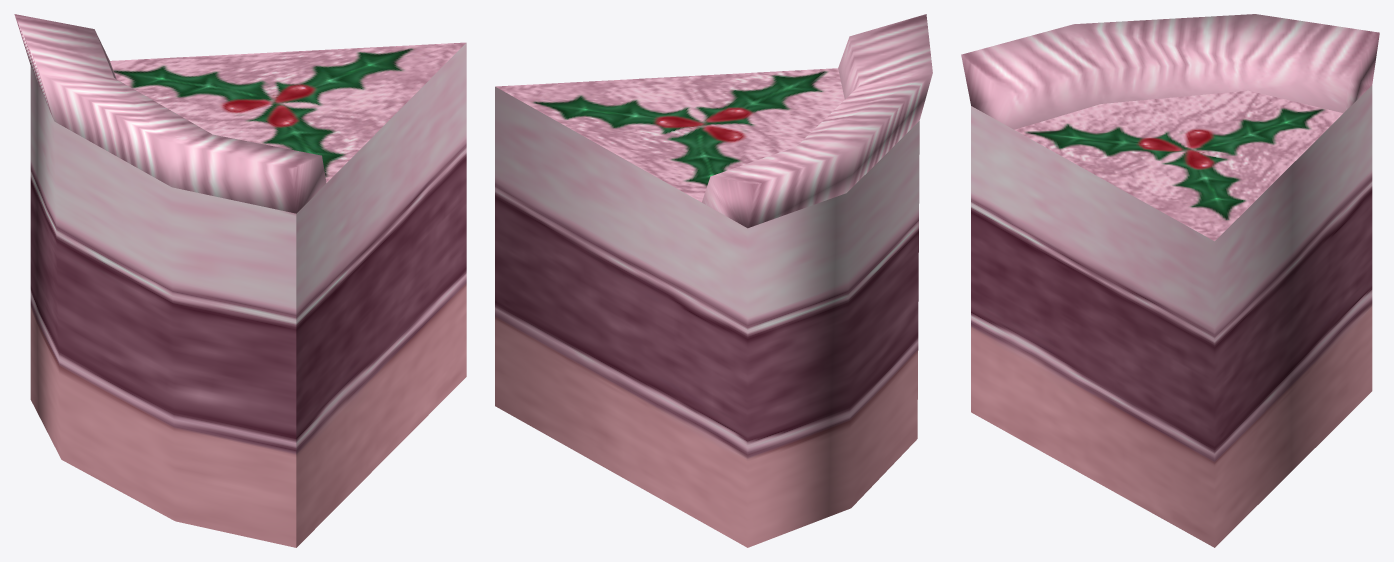
Rendered from Item10.obj.
3 renders of one model, left to right at view 1: azimuth 30°, elevation 25°; view 2: azimuth 150°, elevation 25°; view 3: azimuth 270°, elevation 25°, orthographic. The views are drawn at different scales.
Visible parts, largest first — view 1: 0; view 2: 0; view 3: 0.
Boxes of the visible parts, box(x1,y1,x2,y2) form: 0: box(14, 14, 466, 547); 0: box(495, 14, 932, 547); 0: box(961, 14, 1379, 547).
Bounding box in the file's own units: 17.03 × 15.53 × 16.68.
